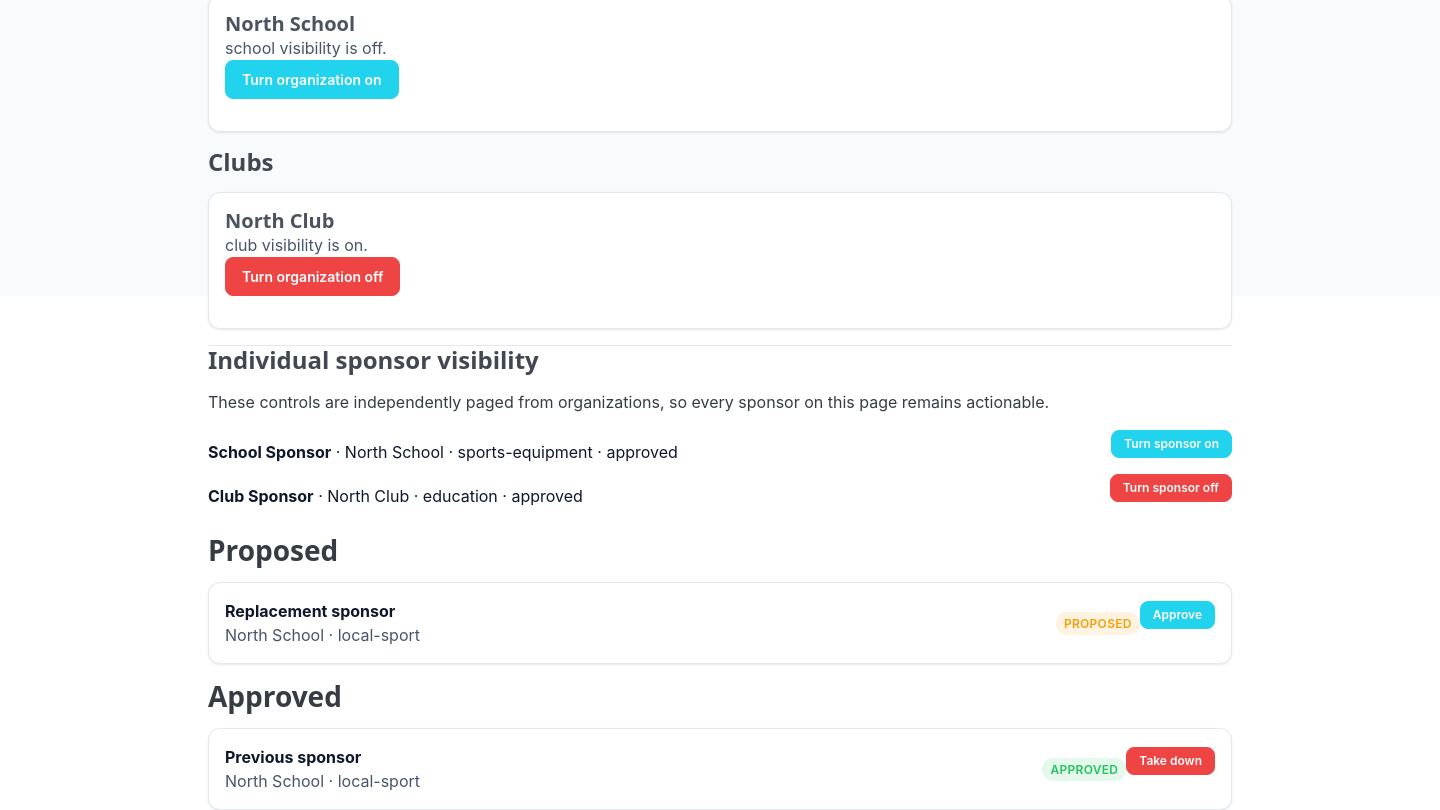
Test: PlatformSponsorPlacementsView › reloads the authoritative queue after replacement approval so a superseded sibling is not active
This screenshot has width=1440, height=810.
(page scrolled)
Click the button "Approve": (1177, 615) [1140, 601, 1215, 629]
(page scrolled)
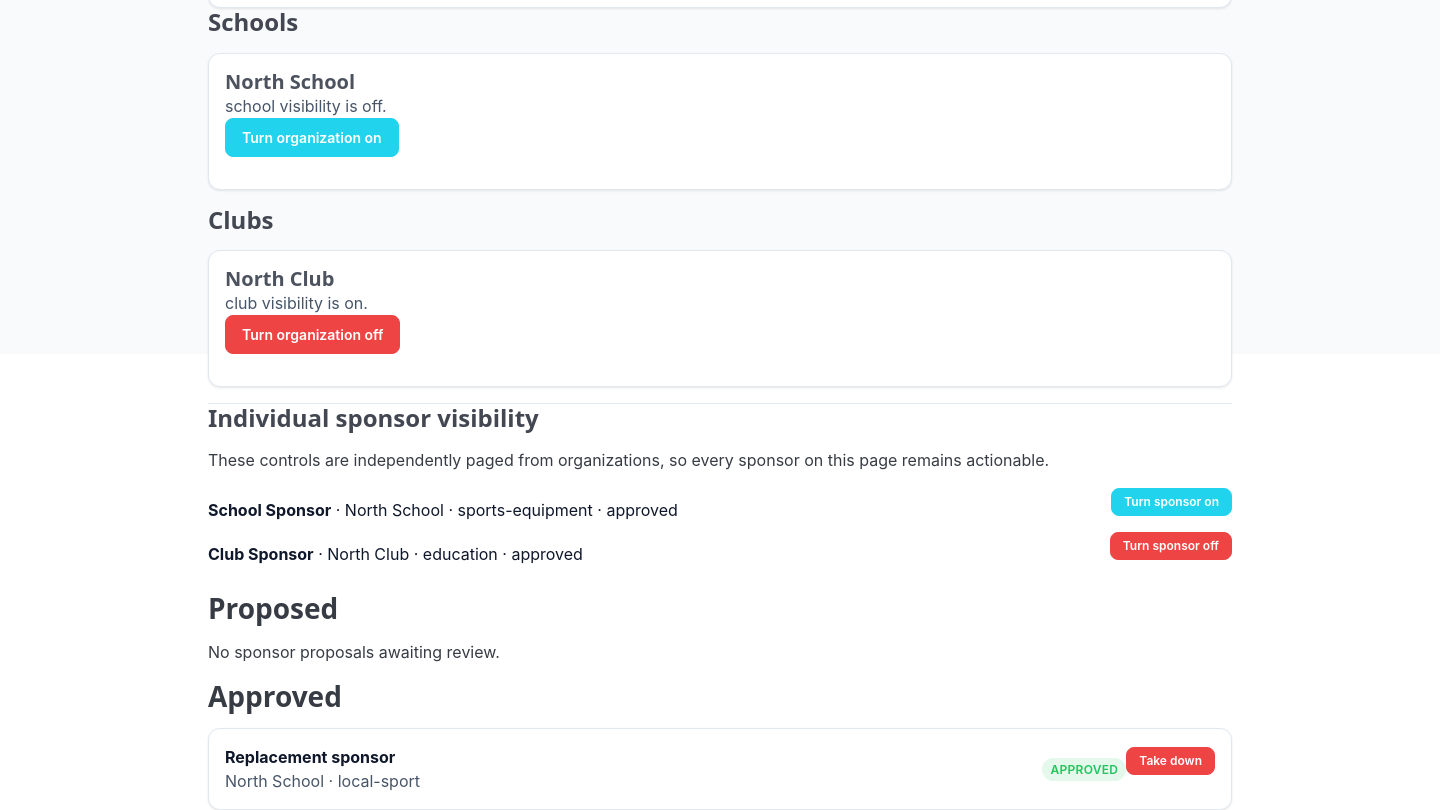
Expected: the text "Replacement sponsor" is shown, [225, 747, 395, 767]
Expected: the text "Previous sponsor" is gone
